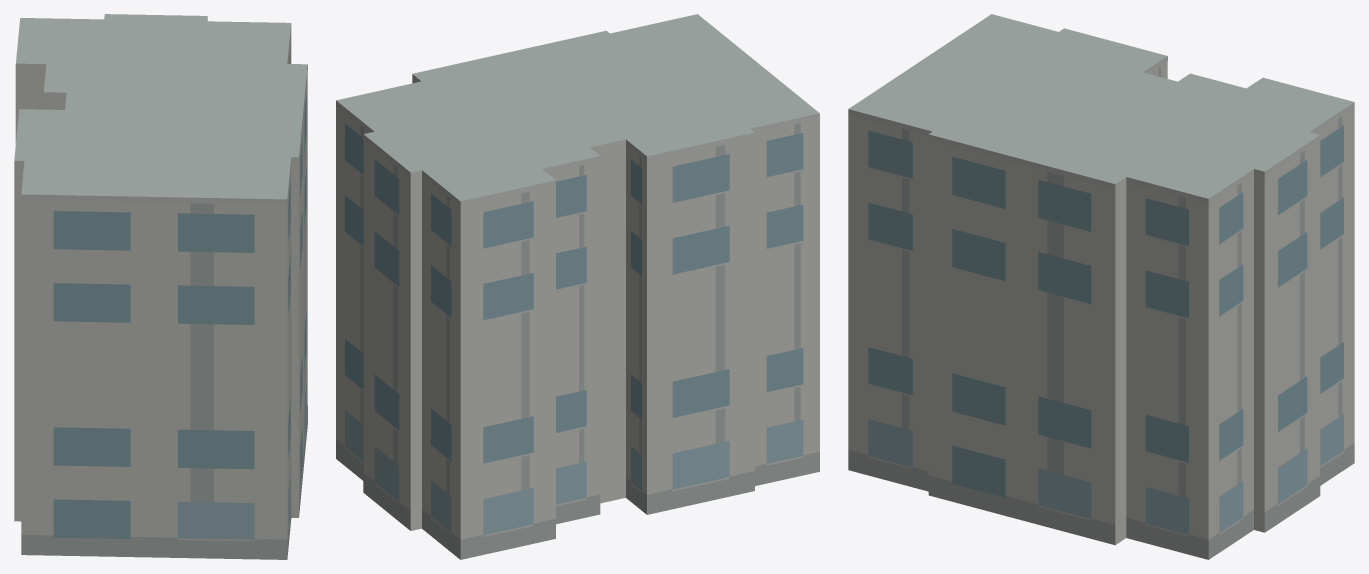
Rendered from survey-upis-32785565.glb.
3 views of the same model, side by side, from view 1: azimuth 30°, elevation 25°; view 2: azimuth 150°, elevation 25°; view 3: azimuth 270°, elevation 25° (orthographic).
Visible parts, largest first — view 1: survey-upis-32785565.tmp; view 2: survey-upis-32785565.tmp; view 3: survey-upis-32785565.tmp.
Boxes of the visible parts, box(x1,y1,x2,y2) form: survey-upis-32785565.tmp: box(14, 14, 307, 559); survey-upis-32785565.tmp: box(336, 14, 819, 559); survey-upis-32785565.tmp: box(848, 14, 1354, 559).
Size of the model in its own units: 17.14 by 15.6 by 19.83.
